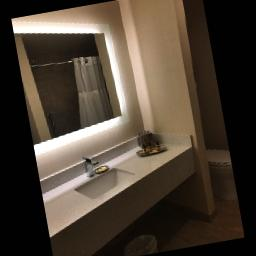clean_sink: (41, 131, 198, 256)
clean_toilet: (12, 0, 244, 256)
